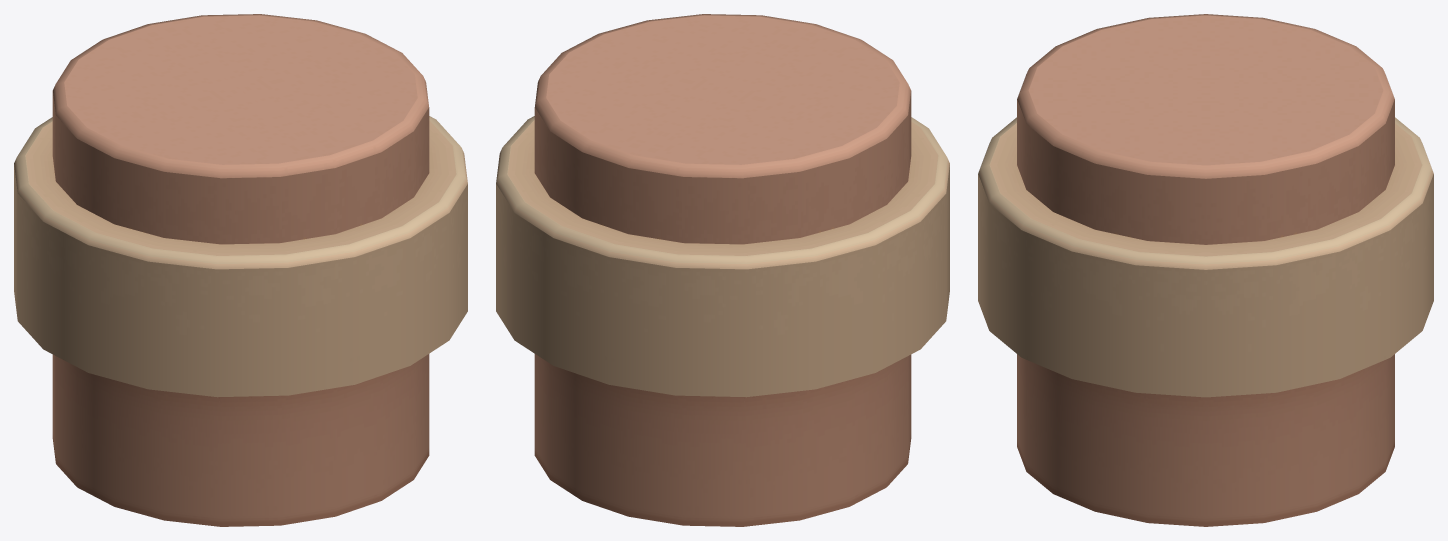
File: Props.fbx
3 views of the same model, side by side, from view 1: azimuth 30°, elevation 25°; view 2: azimuth 150°, elevation 25°; view 3: azimuth 270°, elevation 25° (orthographic).
Visible parts, largest first — view 1: Cylinder-3; view 2: Cylinder-3; view 3: Cylinder-3.
Boxes of the visible parts, left/top/right/bottom form: Cylinder-3: left=14, top=14, right=467, bottom=526; Cylinder-3: left=496, top=14, right=949, bottom=526; Cylinder-3: left=978, top=14, right=1433, bottom=526.
Bounding box in the file's own units: 5.79 × 5 × 5.79.
Materials: 1 (1 with a texture image).
